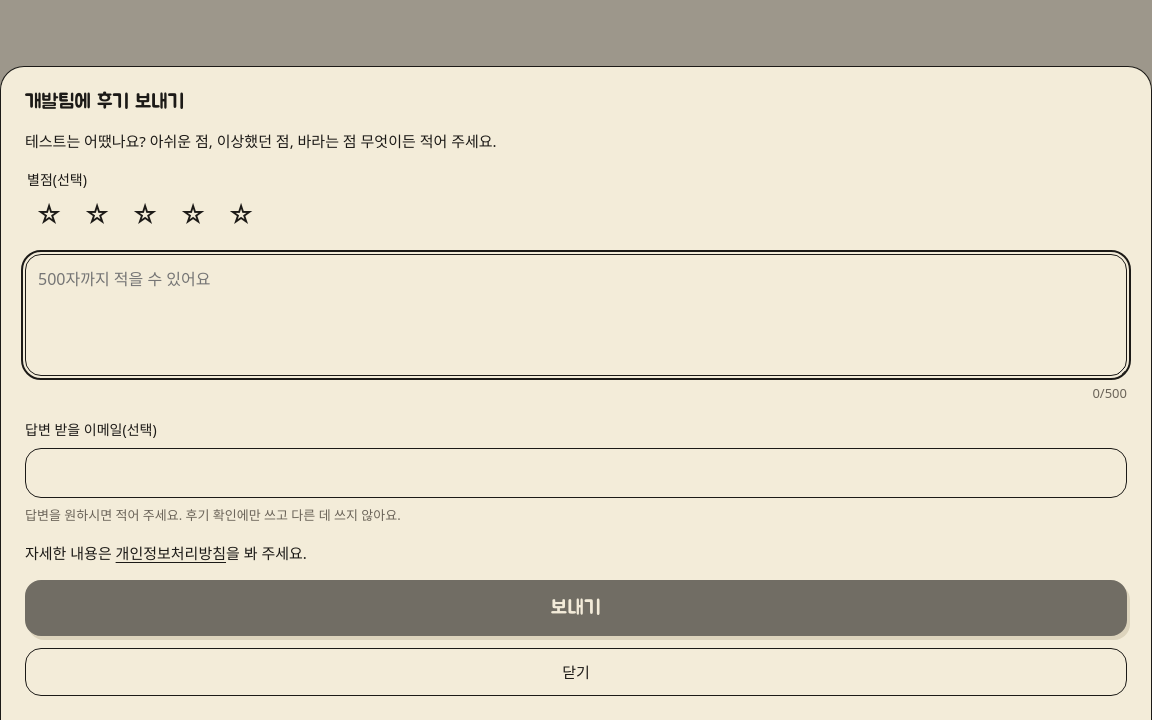
Test case: FeedbackSheet — 보내기 › 이미 보낸 결과면 실패가 아니라 그렇게 말한다
Type "좋아요" into the text box labelled "테스트는 어땠나요? 아쉬운 점, 이상했던 점, 바라는 점 무엇이든 적어 주세요." at x=576, y=314, box [25, 254, 1127, 376]
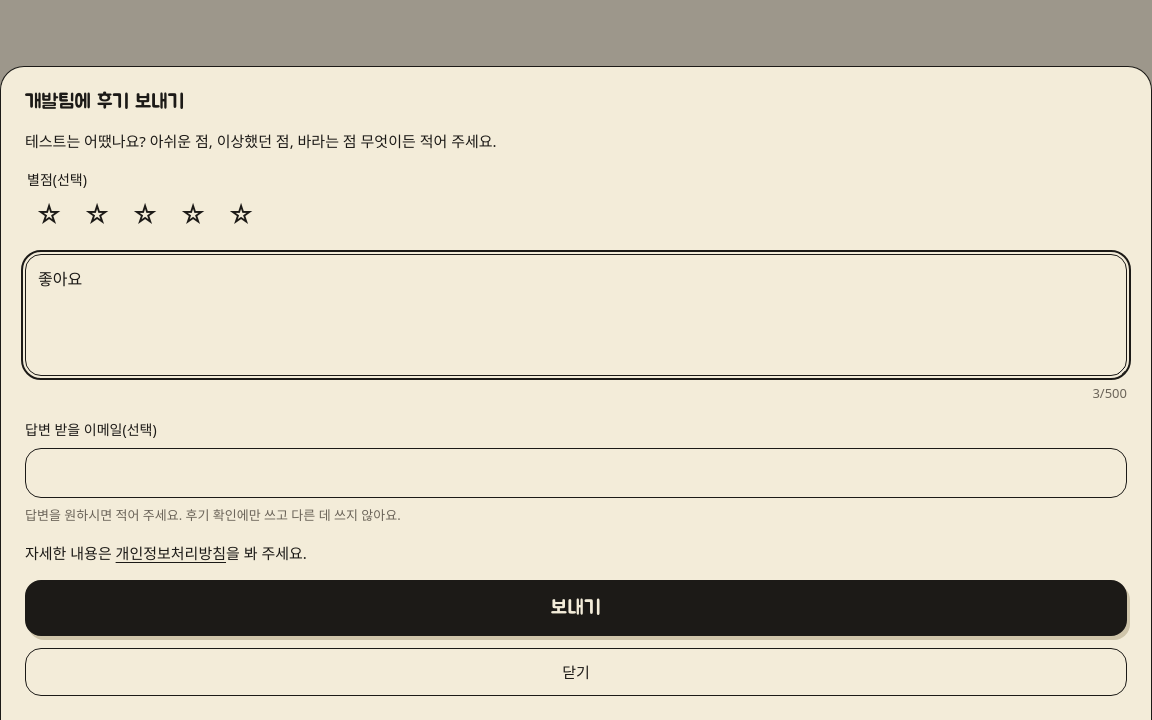
Click the button "보내기" at x=576, y=608, box [25, 580, 1127, 636]
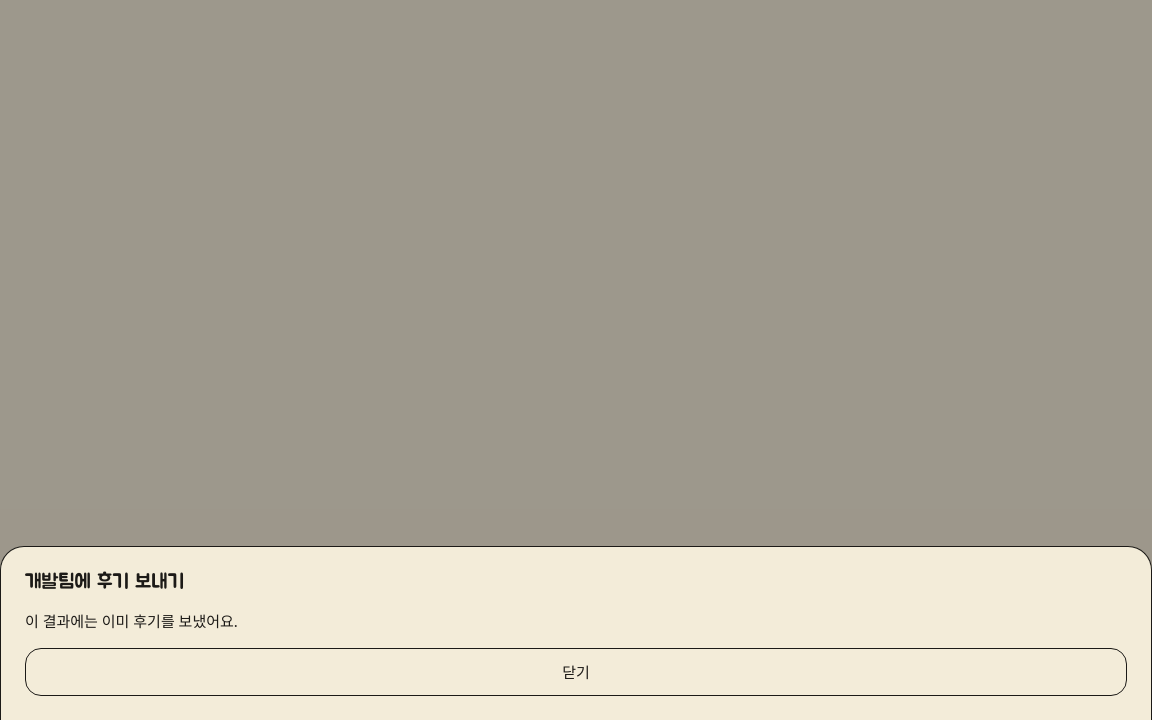
Now the text "이 결과에는 이미 후기를 보냈어요." is shown, box [25, 610, 238, 630]
